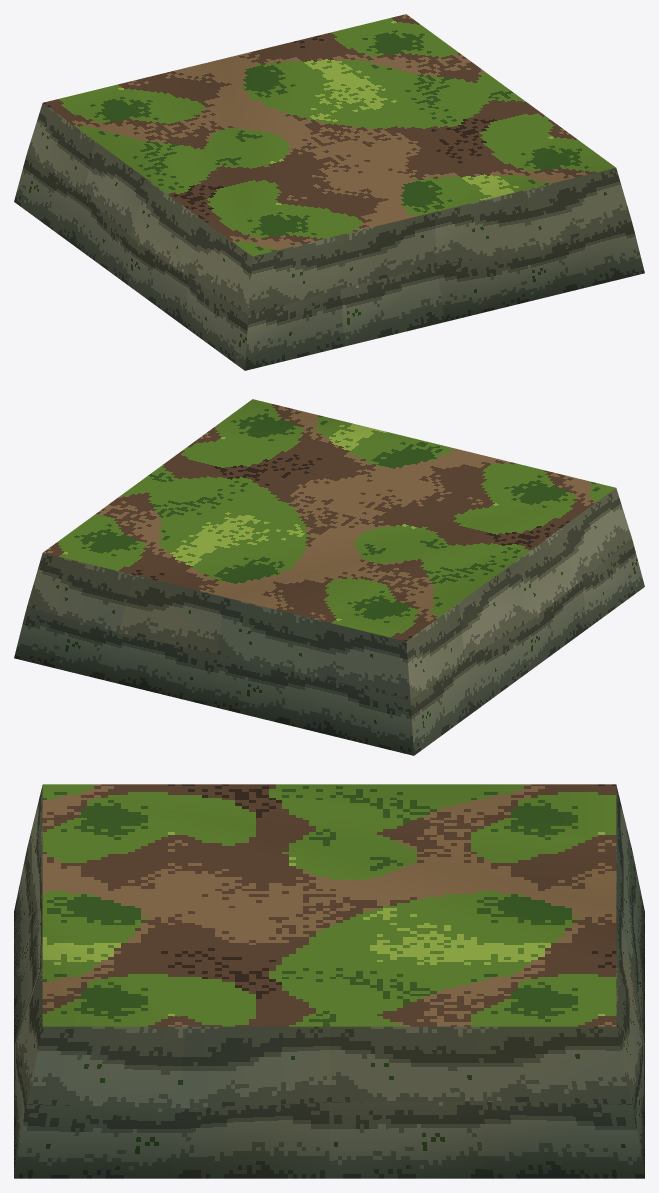
File: land.terrace__jungle.glb
3 views of the same model, one above another, from view 1: azimuth 30°, elevation 25°; view 2: azimuth 150°, elevation 25°; view 3: azimuth 270°, elevation 25° (orthographic). The views are drawn at different scales.
Parts seen in each view (by area): view 1: kit_terrace; view 2: kit_terrace; view 3: kit_terrace.
Part boxes in pixels (<box>): kit_terrace: <box>14,14,644,370</box>; kit_terrace: <box>14,399,644,755</box>; kit_terrace: <box>14,784,644,1178</box>.
Size of the model in its own units: 8.8 by 2.15 by 8.8.
2 materials, 2 textured.
